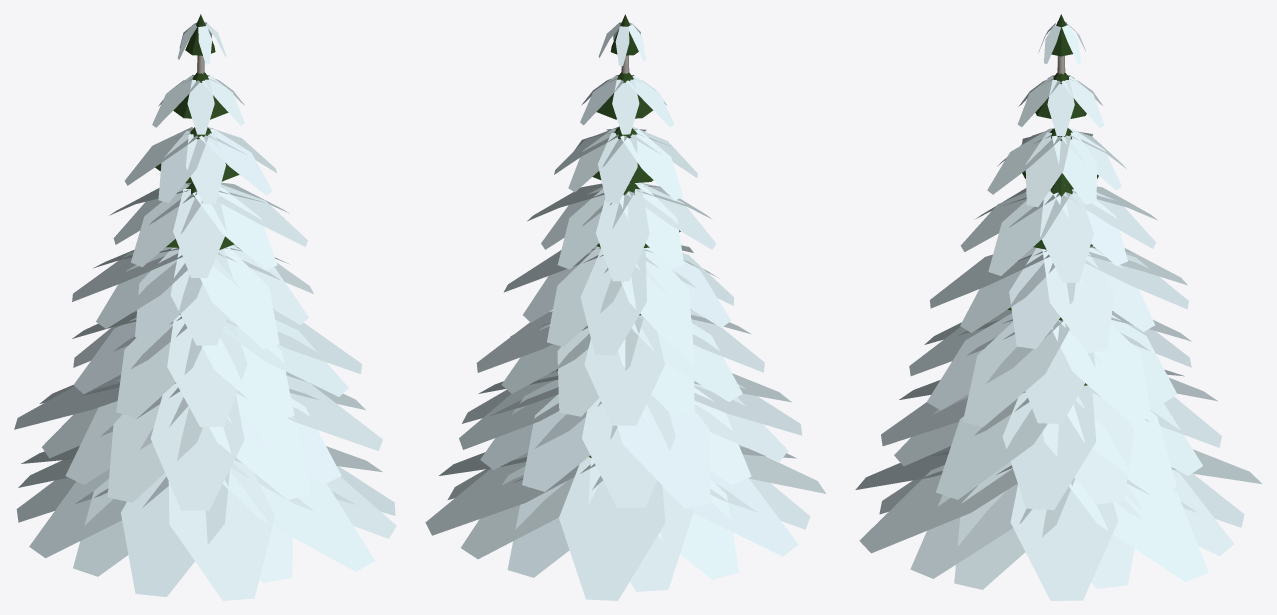
The model's file is fir.gltf.
3 renders of one model, left to right at view 1: azimuth 30°, elevation 25°; view 2: azimuth 150°, elevation 25°; view 3: azimuth 270°, elevation 25°, orthographic.
Parts seen in each view (by area): view 1: fir_Leaf_Fir, fir_Core_Fir; view 2: fir_Leaf_Fir, fir_Core_Fir; view 3: fir_Leaf_Fir, fir_Core_Fir.
Part boxes in pixels (x1,y1,x2,y2): fir_Leaf_Fir: (14,22,396,600); fir_Core_Fir: (155,14,239,383); fir_Leaf_Fir: (425,22,826,600); fir_Core_Fir: (556,14,680,457); fir_Leaf_Fir: (855,22,1262,600); fir_Core_Fir: (1007,14,1098,385).
Bounding box in the file's own units: 6.97 × 10.5 × 7.17.
